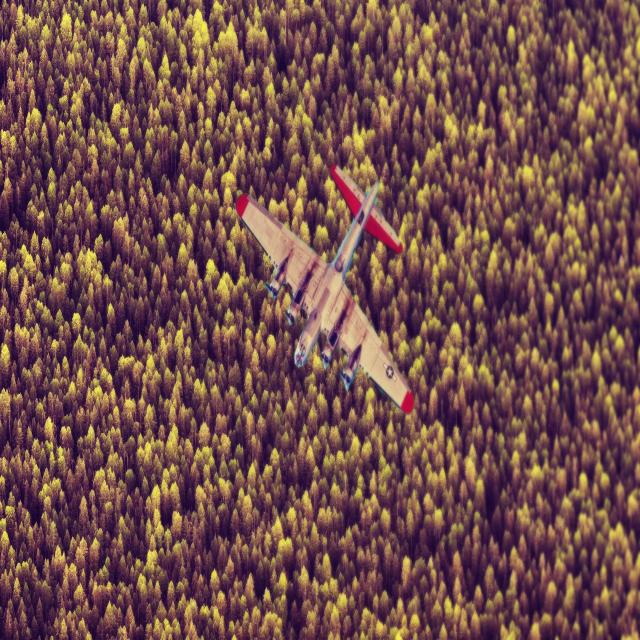airplane: (235, 162, 414, 416)
